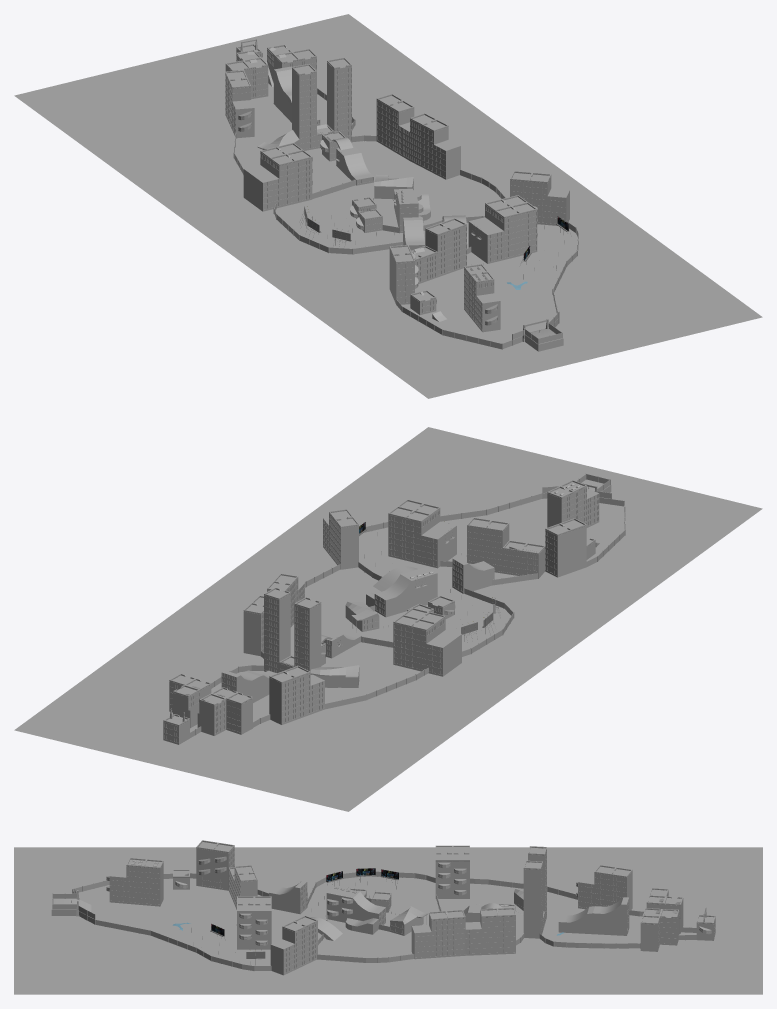
File: CompKalleMaya.fbx
3 renders of one model, top to bottom at view 1: azimuth 30°, elevation 25°; view 2: azimuth 150°, elevation 25°; view 3: azimuth 270°, elevation 25°, orthographic. The views are drawn at different scales.
Visible parts, largest first — view 1: polySurface1656; view 2: polySurface1656; view 3: polySurface1656.
Boxes of the visible parts, x1,y1,x2,y2 form: polySurface1656: (14,14,762,398); polySurface1656: (14,427,762,811); polySurface1656: (14,840,762,994).
Size of the model in its own units: 182 by 41.13 by 391.
